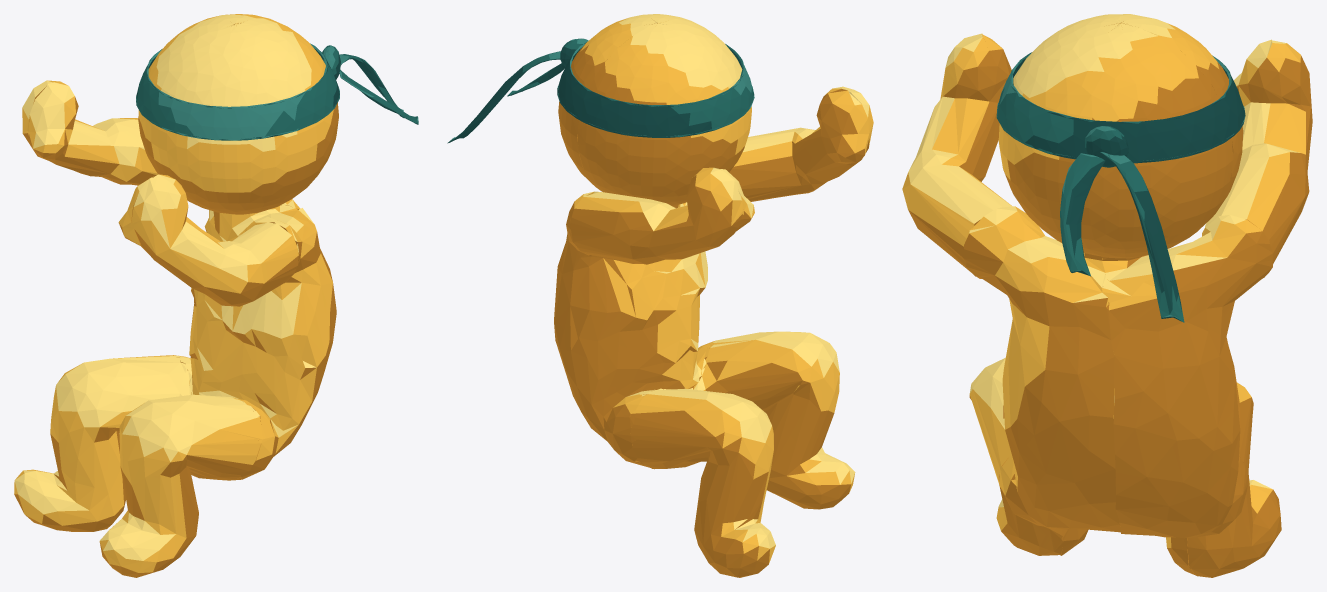
Rendered from Ninja_Air0_L.gltf.
3 renders of one model, left to right at view 1: azimuth 30°, elevation 25°; view 2: azimuth 150°, elevation 25°; view 3: azimuth 270°, elevation 25°, orthographic. The views are drawn at different scales.
Visible parts, largest first — view 1: Ninja_Air0_L_baked; view 2: Ninja_Air0_L_baked; view 3: Ninja_Air0_L_baked.
Part boxes in pixels (x1=…): Ninja_Air0_L_baked: x1=14, y1=14, x2=418, y2=577; Ninja_Air0_L_baked: x1=447, y1=14, x2=873, y2=577; Ninja_Air0_L_baked: x1=902, y1=14, x2=1312, y2=577.
Size of the model in its own units: 0.7431 by 1 by 0.6032.
